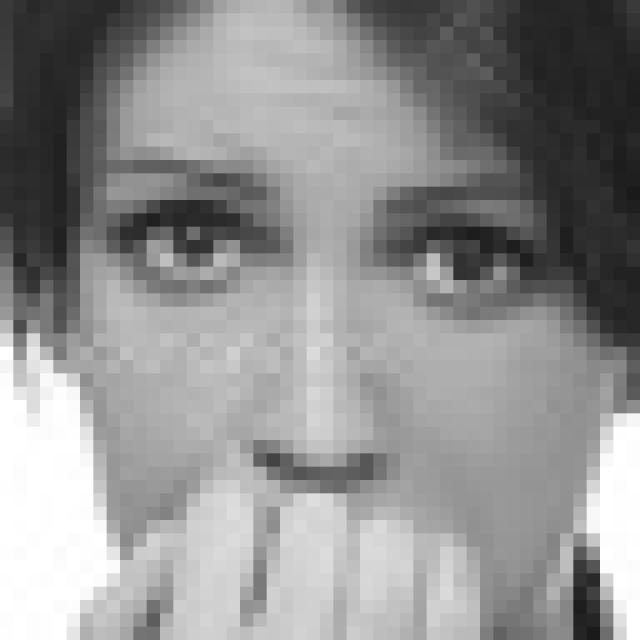fear: (96, 148, 554, 615)
